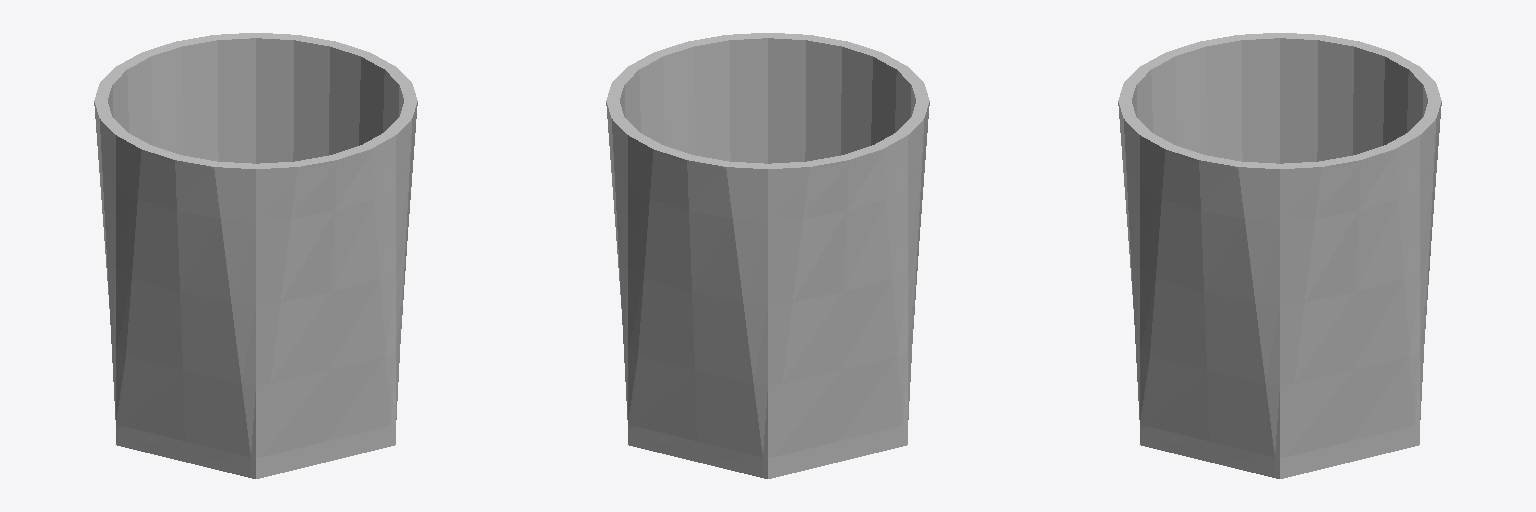
The model's file is whiskey3.obj.
3 views of the same model, side by side, from view 1: azimuth 30°, elevation 25°; view 2: azimuth 150°, elevation 25°; view 3: azimuth 270°, elevation 25° (orthographic).
Visible parts, largest first — view 1: pCylinder10; view 2: pCylinder10; view 3: pCylinder10.
Boxes of the visible parts, <box> form: pCylinder10: <box>94,33,417,478</box>; pCylinder10: <box>606,33,929,478</box>; pCylinder10: <box>1118,33,1441,478</box>.
Bounding box in the file's own units: 14.76 × 15.61 × 14.76.